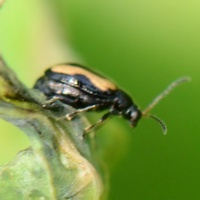insect: (34, 63, 189, 134)
